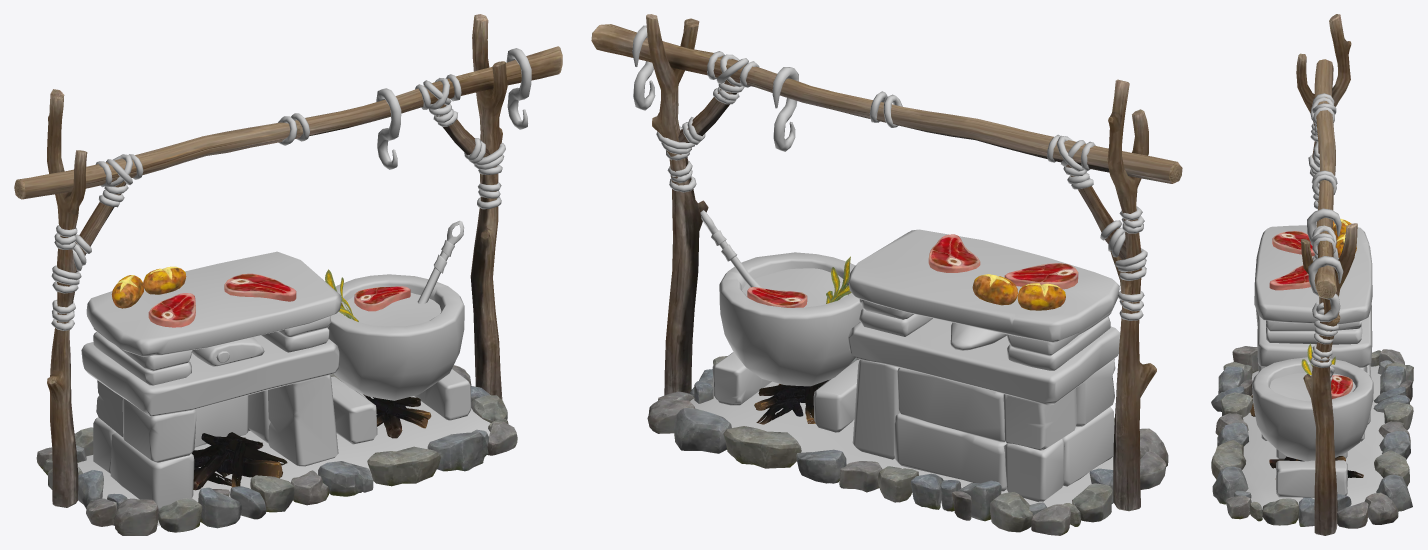
The picture shows the model from 3 angles, left to right: view 1: azimuth 30°, elevation 25°; view 2: azimuth 150°, elevation 25°; view 3: azimuth 270°, elevation 25°; orthographic projection. The views are drawn at different scales.
Visible parts, largest first — view 1: SM_Cooking_Range_Active_02_LOD0; view 2: SM_Cooking_Range_Active_02_LOD0; view 3: SM_Cooking_Range_Active_02_LOD0.
Boxes of the visible parts, x1,y1,x2,y2 form: SM_Cooking_Range_Active_02_LOD0: (14, 14, 562, 535); SM_Cooking_Range_Active_02_LOD0: (591, 14, 1182, 535); SM_Cooking_Range_Active_02_LOD0: (1211, 14, 1413, 535).
Bounding box in the file's own units: 2.5 × 1.82 × 0.9592.
